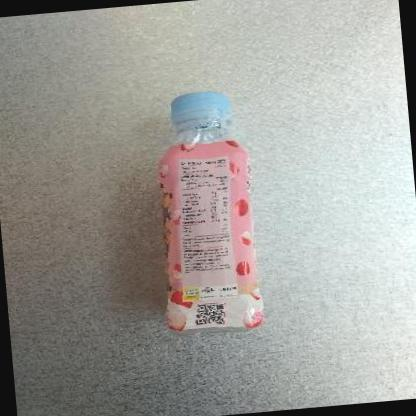plastic_bottles: (144, 82, 273, 338)
